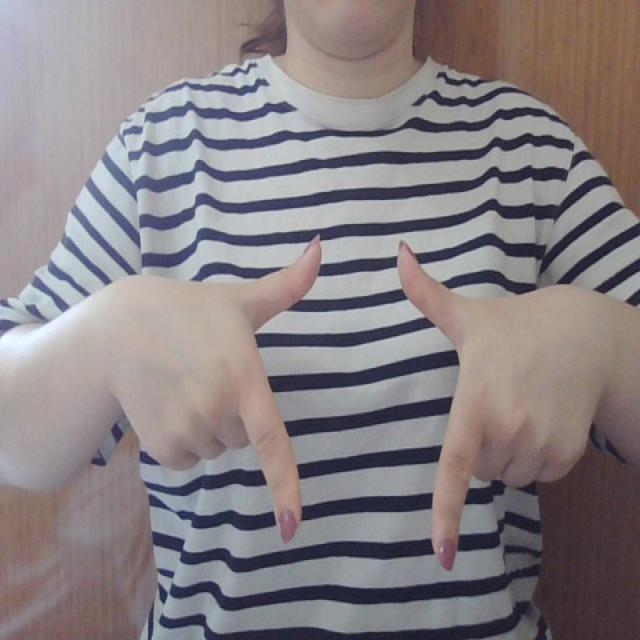Nerede: (220, 233, 525, 574)
